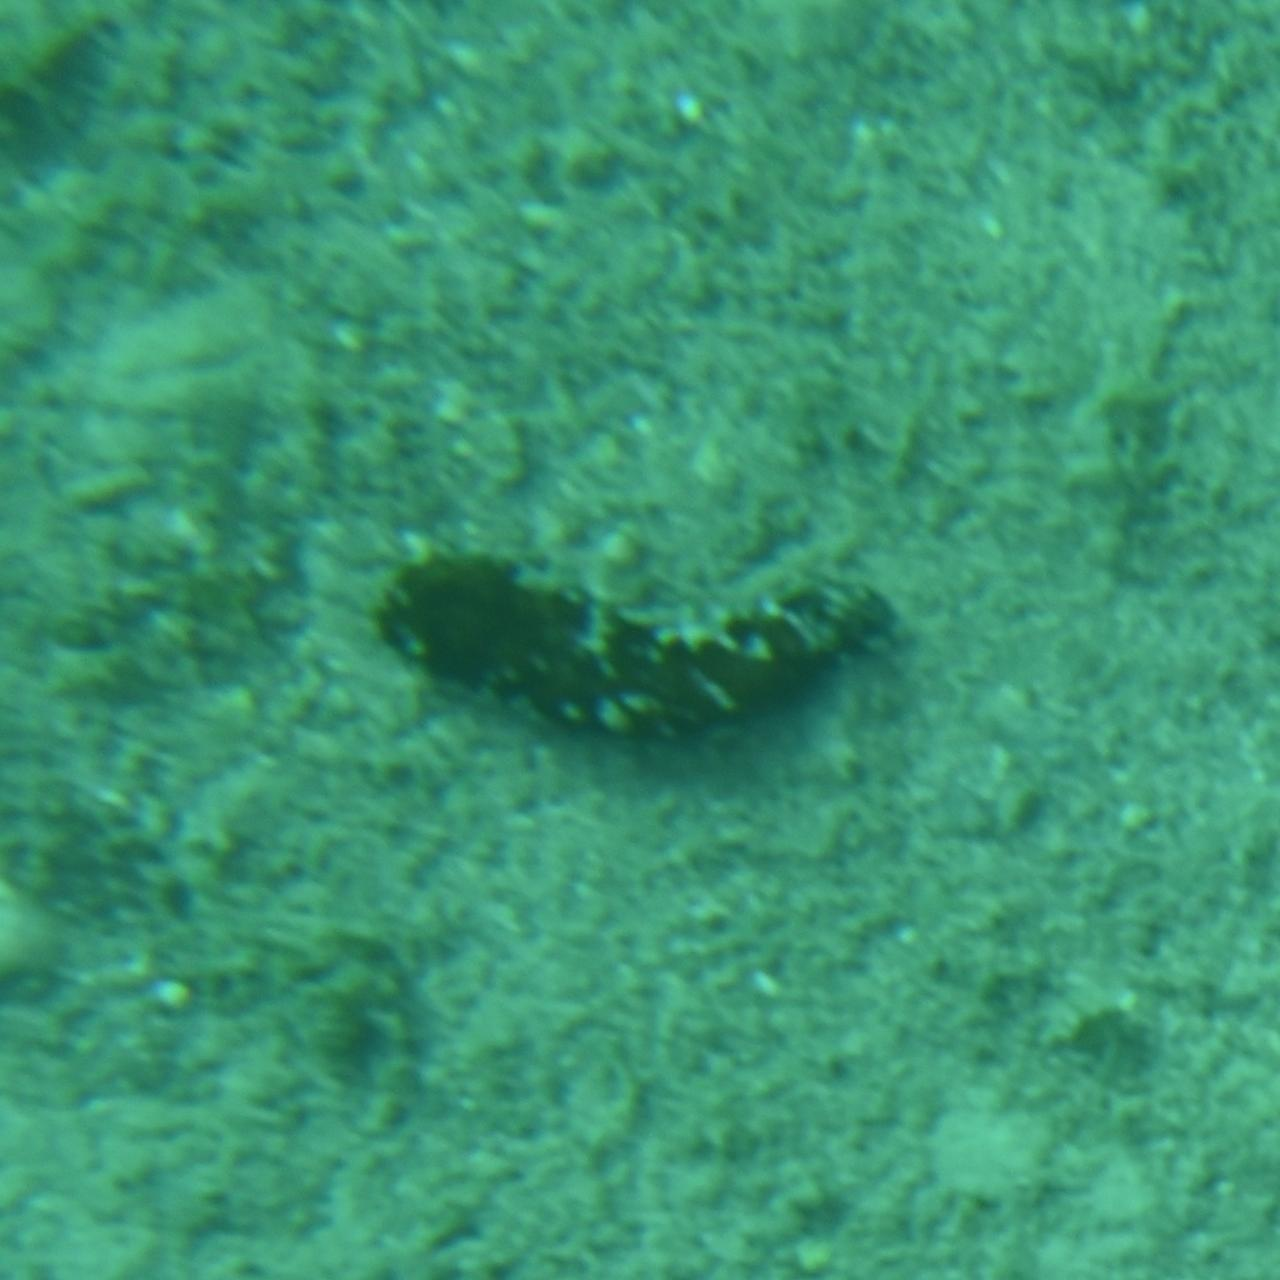Holothuria tubulosa: (376, 538, 904, 742)
